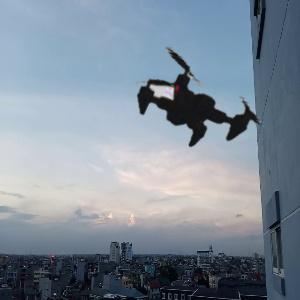drone: (107, 6, 294, 193)
